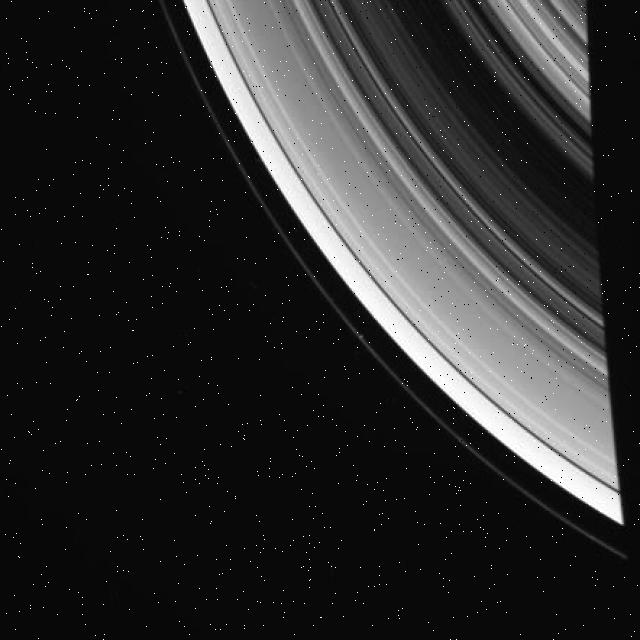Saturn: (146, 1, 640, 564)
